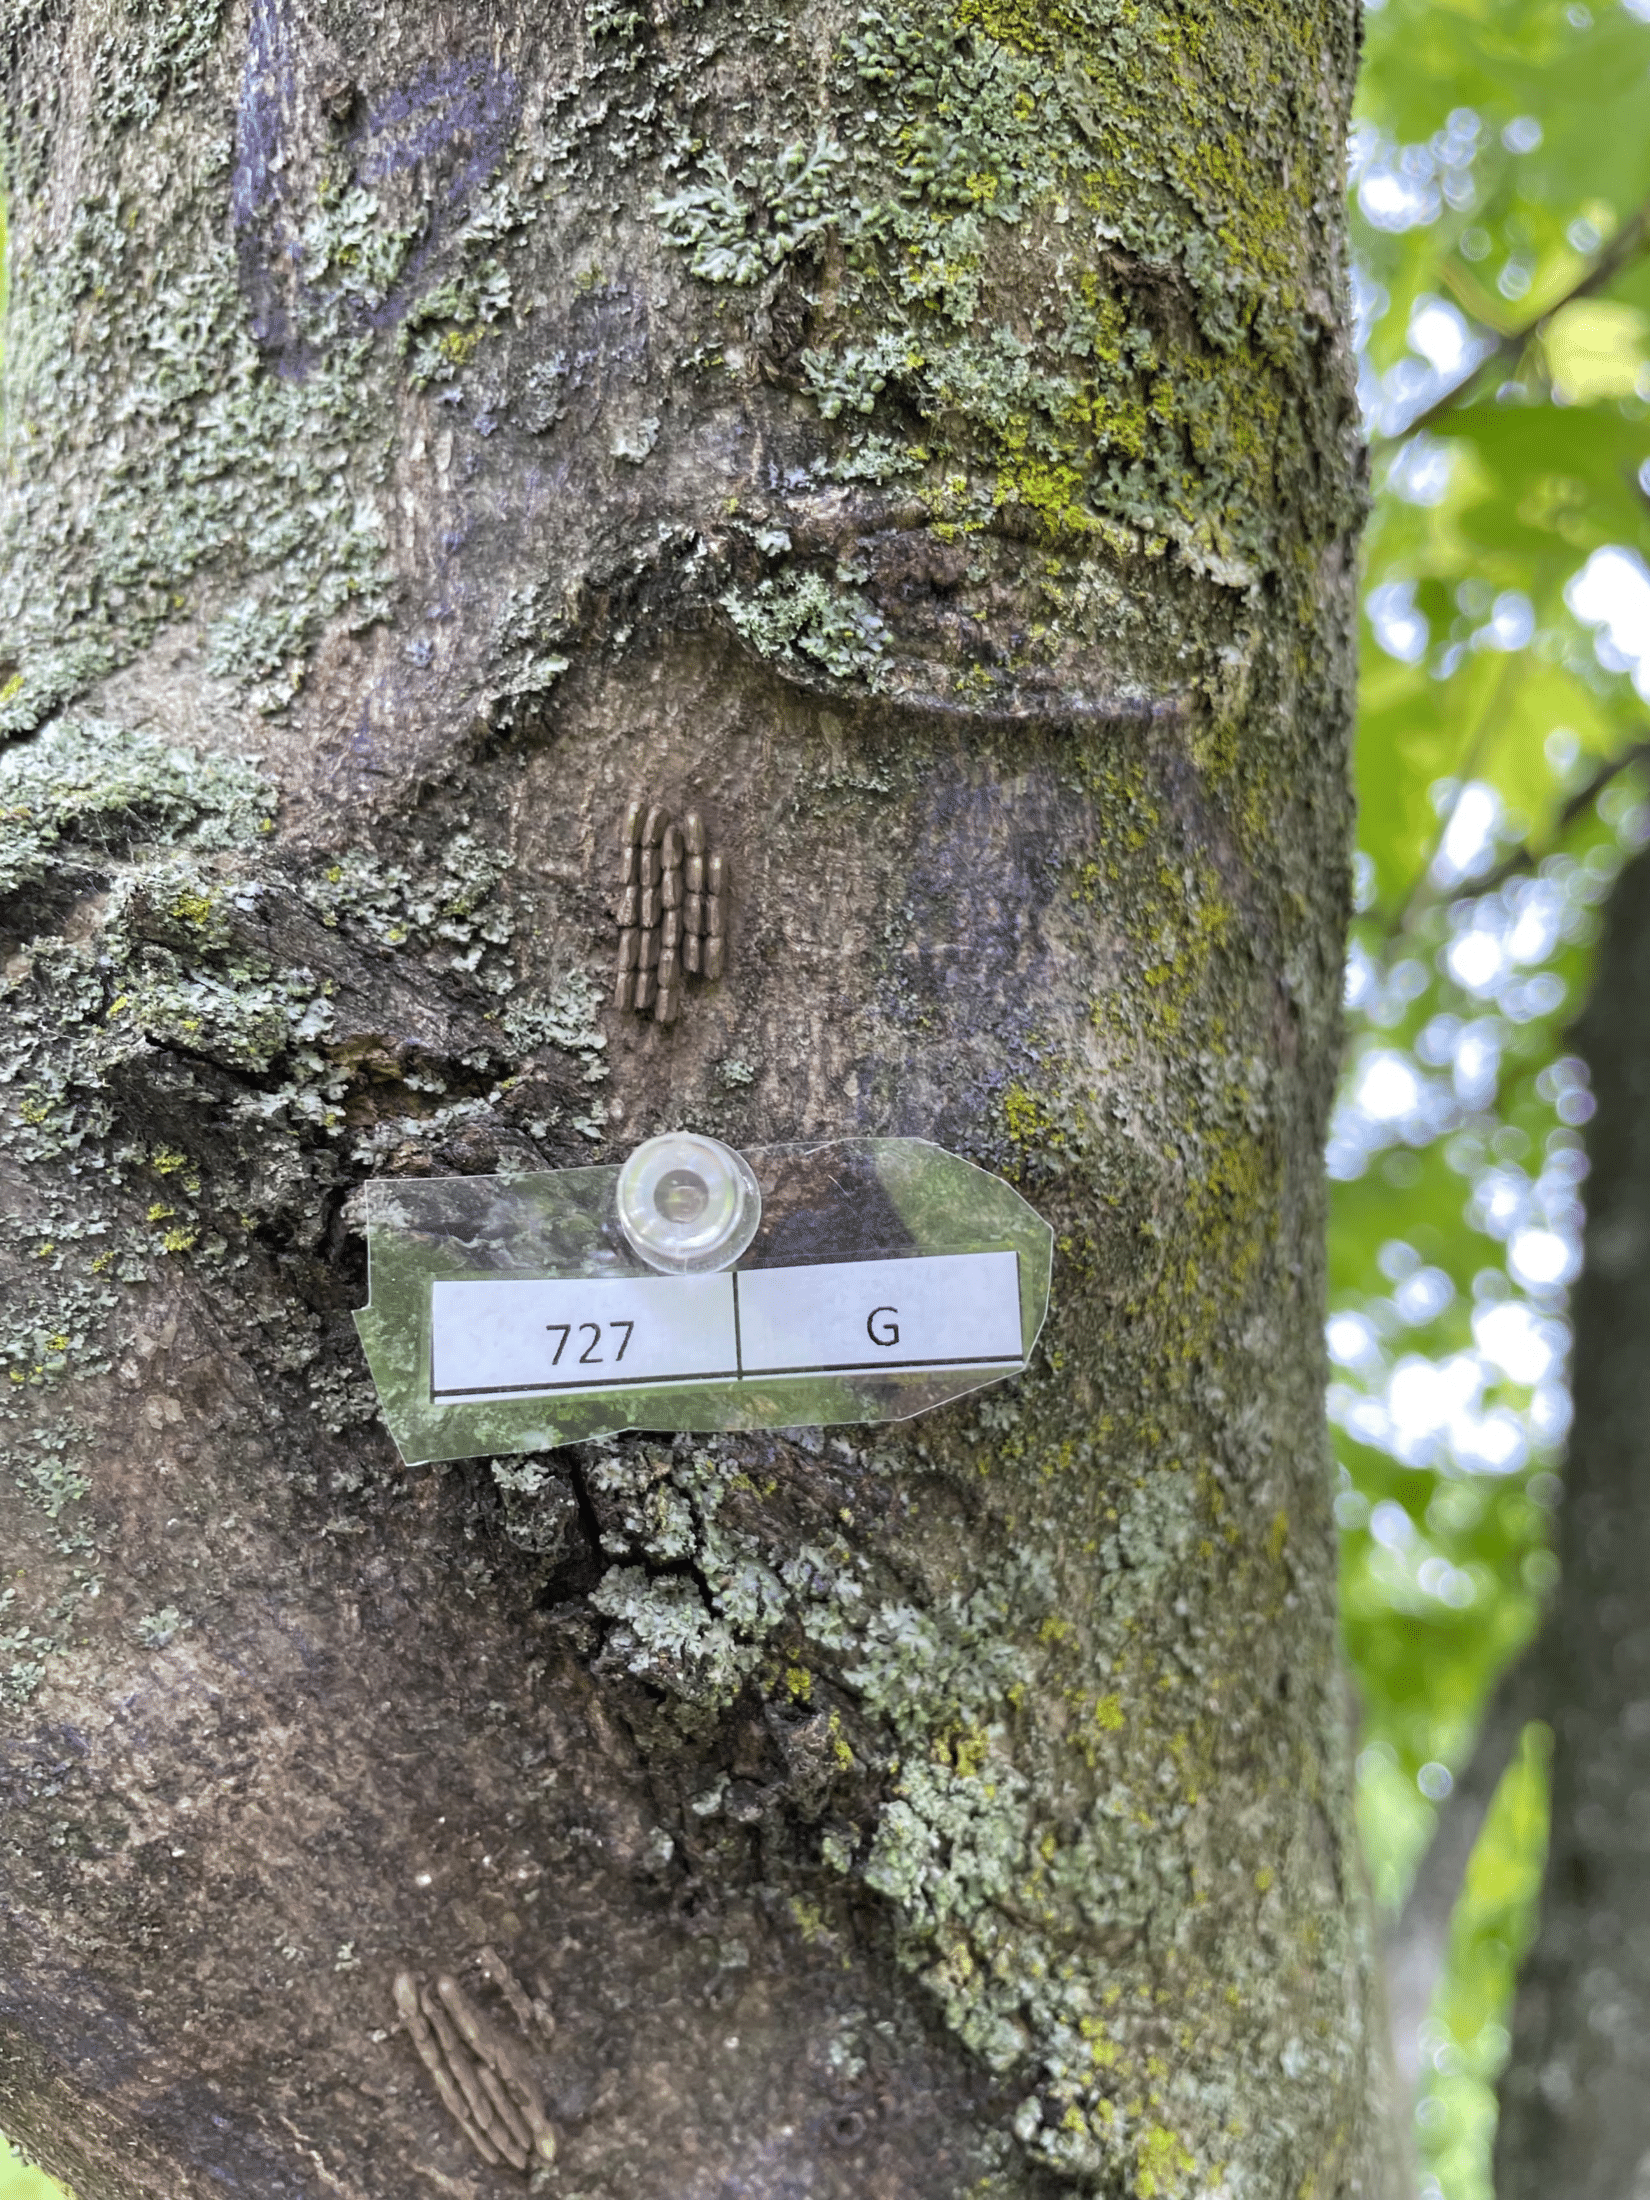egg masses: (371, 1951, 600, 2200), (584, 755, 737, 1050)
